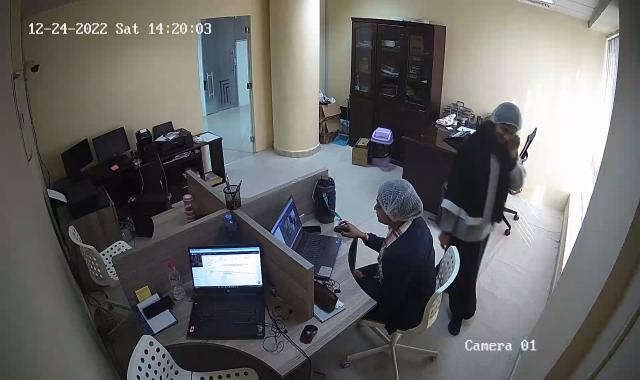hairnet: (377, 178, 423, 225), (489, 102, 521, 146)
